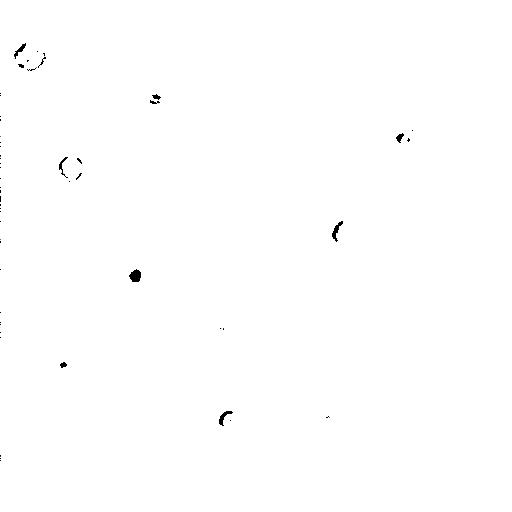micro-algae: (113, 248, 161, 299), (11, 39, 47, 73), (182, 0, 227, 25), (49, 355, 75, 385), (331, 217, 359, 243), (59, 154, 83, 182), (386, 127, 418, 148), (497, 125, 511, 171), (217, 410, 241, 428)
